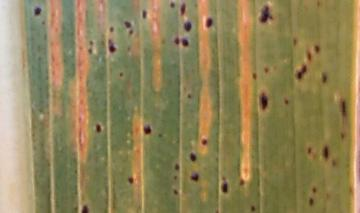tarspot: (256, 2, 279, 27), (256, 87, 272, 113), (216, 175, 232, 196), (104, 35, 119, 55), (293, 63, 309, 81), (319, 141, 332, 163), (29, 4, 46, 20), (201, 14, 217, 30), (337, 96, 348, 119), (187, 170, 202, 186), (140, 121, 154, 138), (91, 119, 104, 136), (180, 19, 194, 34), (177, 2, 190, 18), (186, 150, 200, 163), (77, 201, 92, 213), (139, 6, 150, 22), (246, 200, 259, 213), (305, 195, 317, 209), (182, 89, 196, 101), (121, 16, 133, 30), (198, 135, 210, 148), (84, 46, 98, 57), (170, 33, 180, 48), (308, 183, 320, 195), (170, 186, 182, 198), (125, 173, 136, 186), (180, 35, 191, 48), (280, 95, 291, 108), (319, 72, 330, 85), (261, 63, 272, 76), (312, 43, 322, 56), (305, 145, 315, 158), (237, 175, 247, 188), (171, 162, 183, 172), (107, 23, 117, 35), (116, 69, 126, 81), (86, 38, 98, 48), (250, 69, 259, 81), (291, 34, 298, 49), (167, 1, 178, 10), (338, 129, 346, 141), (171, 173, 180, 183)
